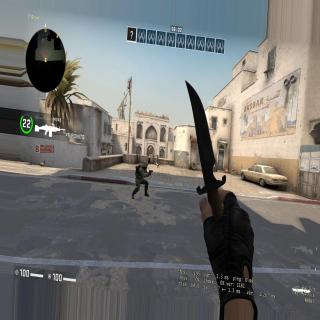CT-Body: (132, 158, 152, 194)
CT-Head: (142, 162, 149, 168)
